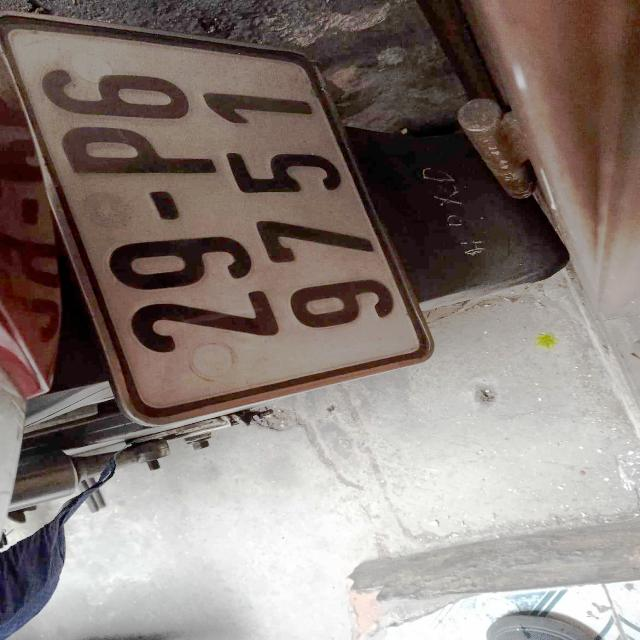license_plate: (15, 19, 432, 409)
